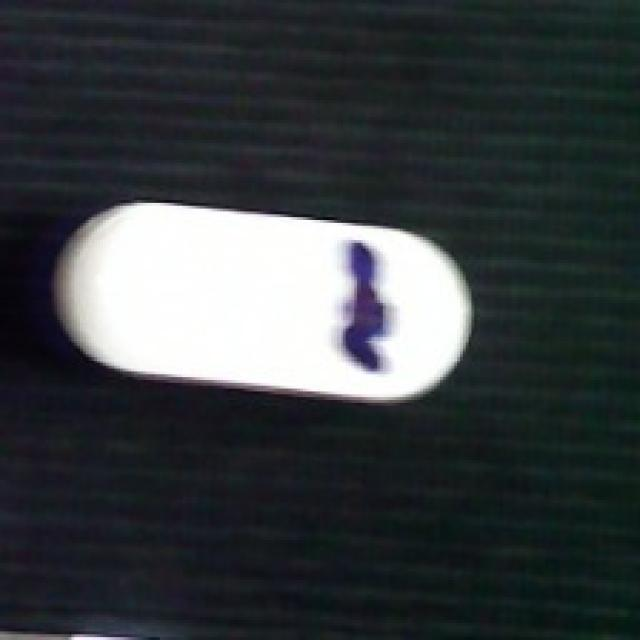defected: (43, 197, 477, 403)
